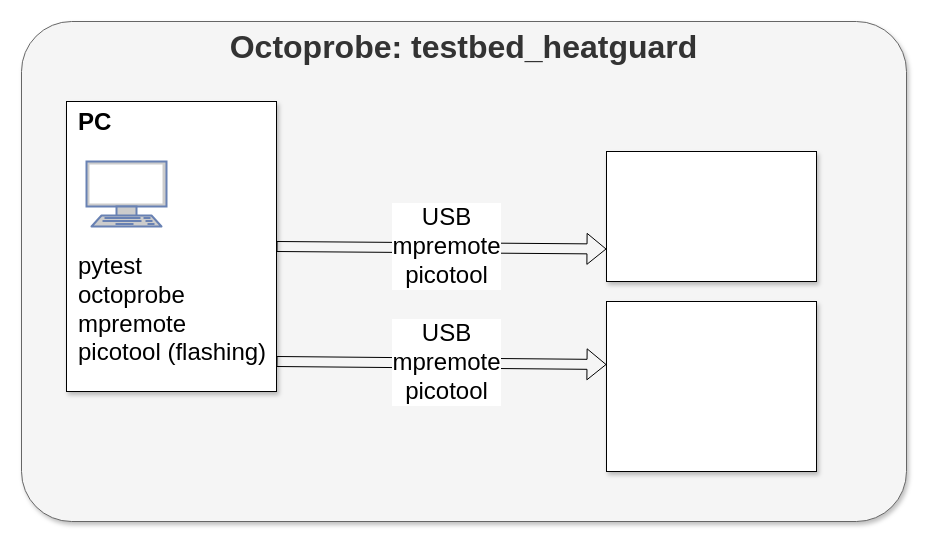
Image size: 930x546. Some labels were removed from this diagram. The shapes that lost their labels are listed below. From the top down, each one's centre as x and y in pixels, then its label:
At point (712, 217): "PICO_INFRA micropython".
At point (712, 387): "DUT - heatguard micropython main.py".
